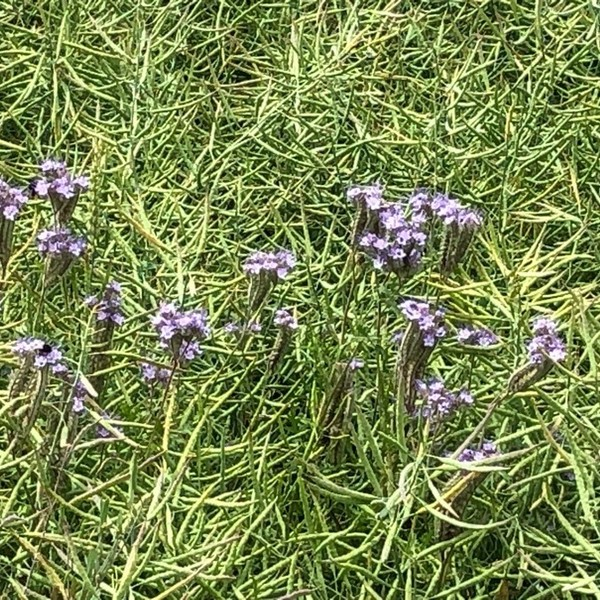obstacle: (130, 99, 539, 466)
